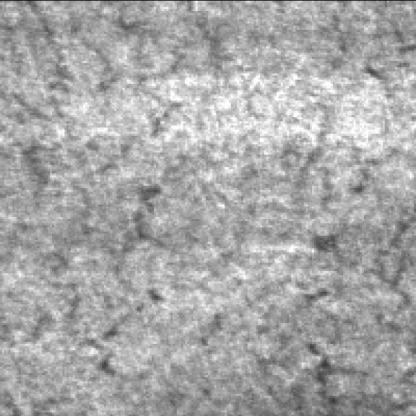crazing: (289, 106, 412, 412), (85, 8, 179, 387), (2, 8, 94, 277)
